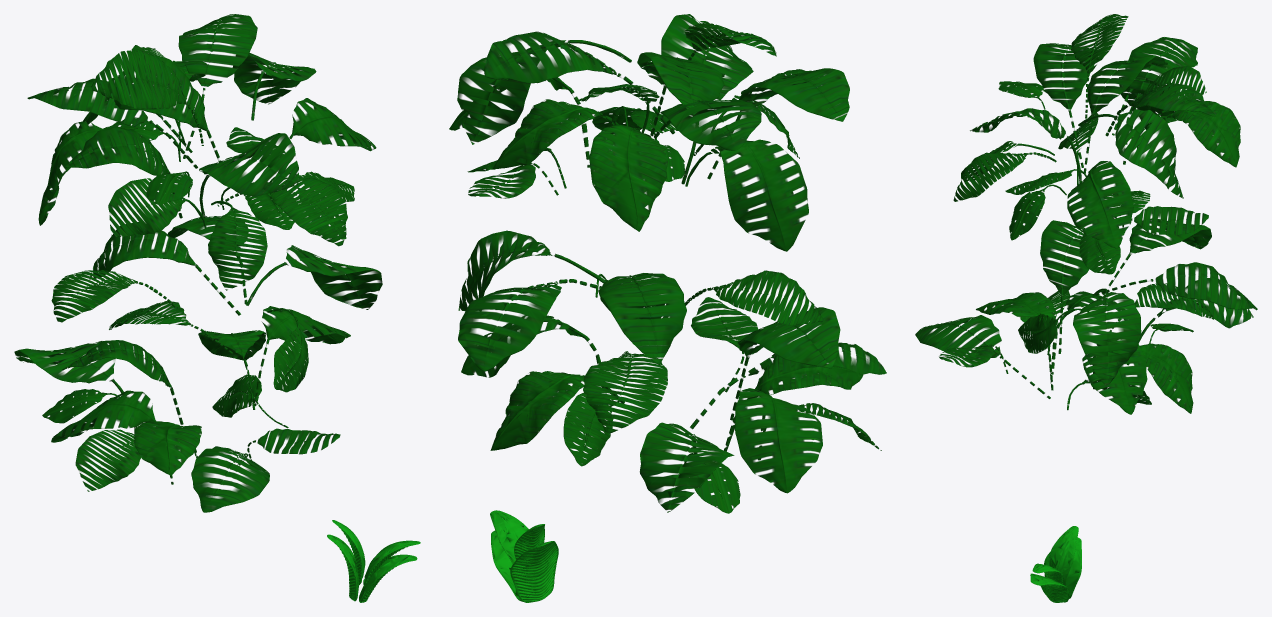
The model's file is worldtreethreeleaves.glb.
3 renders of one model, left to right at view 1: azimuth 30°, elevation 25°; view 2: azimuth 150°, elevation 25°; view 3: azimuth 270°, elevation 25°, orthographic. The views are drawn at different scales.
Parts seen in each view (by area): view 1: leaf_010_mesh.002; view 2: leaf_010_mesh.002; view 3: leaf_010_mesh.002.
Boxes of the visible parts, x1,y1,x2,y2 form: leaf_010_mesh.002: [14, 14, 420, 602]; leaf_010_mesh.002: [449, 14, 886, 602]; leaf_010_mesh.002: [915, 14, 1257, 602].
Bounding box in the file's own units: 0.9917 × 1.61 × 0.9985.
3 materials, 3 textured.
